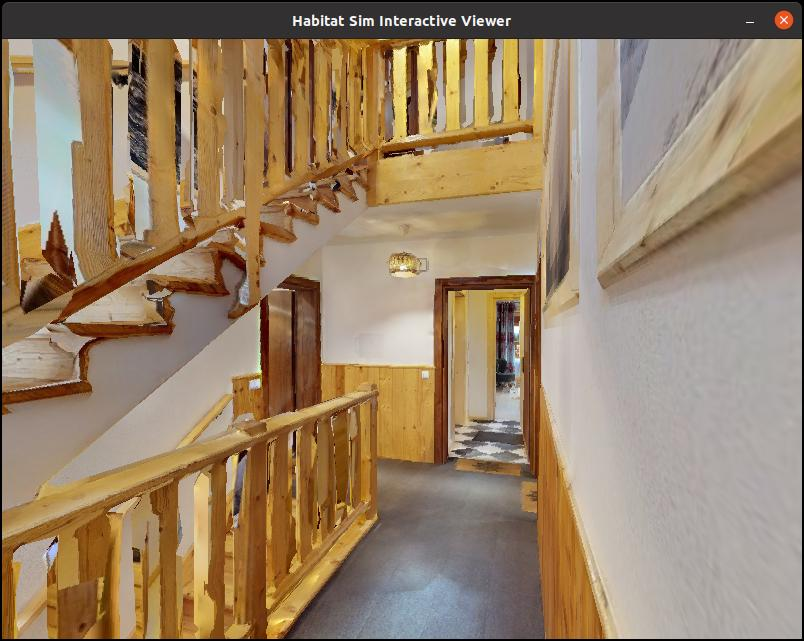door-frame: (439, 271, 553, 484)
stairs: (0, 25, 501, 359), (0, 395, 371, 641)
